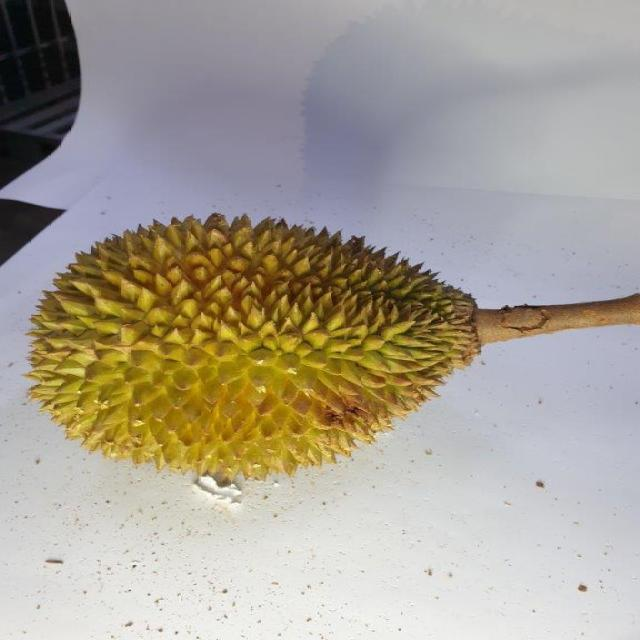mature: (25, 210, 479, 490)
